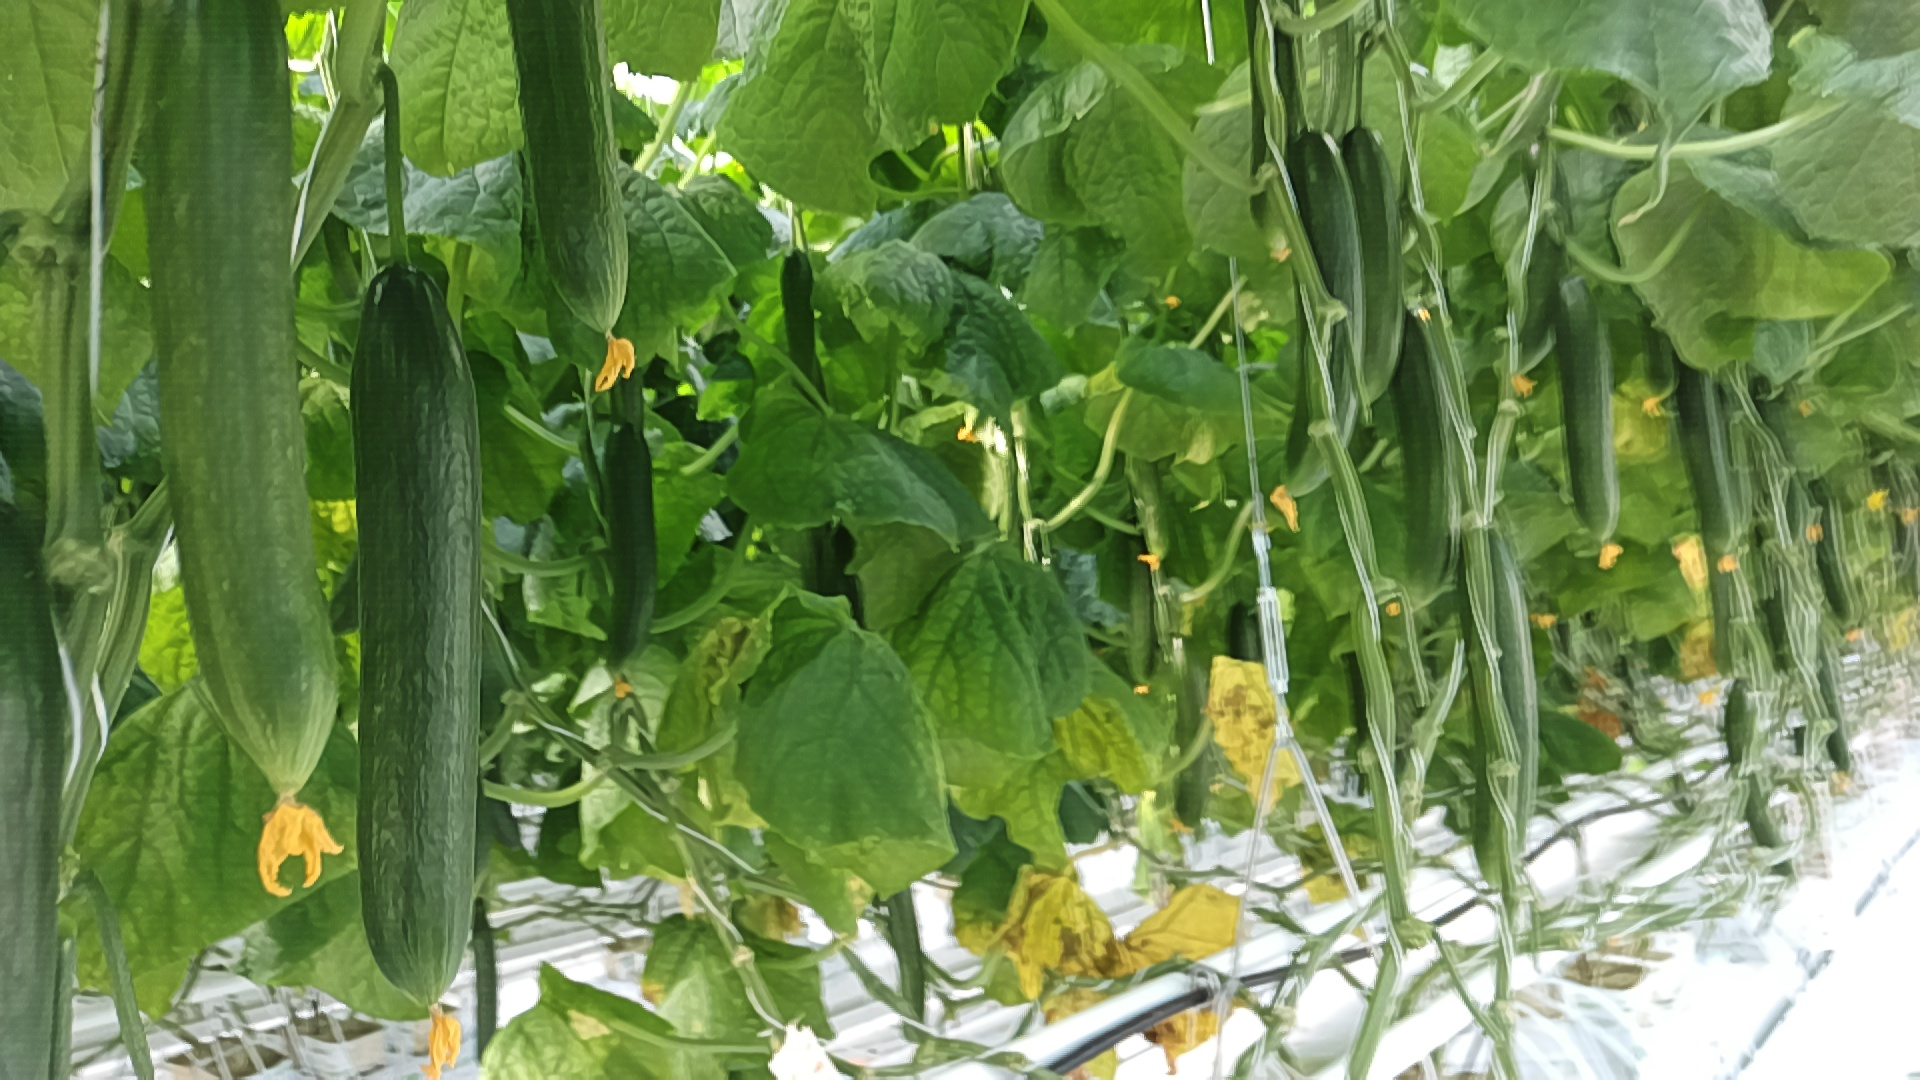gurka: (334, 243, 531, 1021), (335, 245, 531, 1015), (335, 261, 484, 1007), (597, 405, 662, 684)
